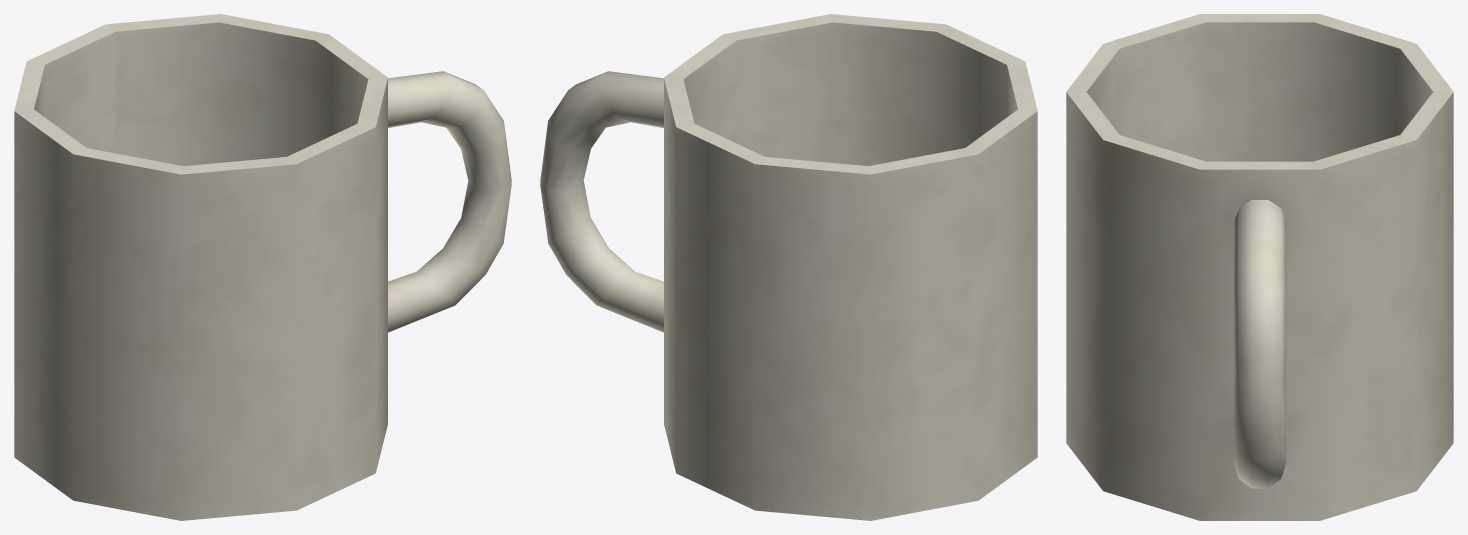
Rendered from sb_obj_indoor020_Mug01.fbx.
3 renders of one model, left to right at view 1: azimuth 30°, elevation 25°; view 2: azimuth 150°, elevation 25°; view 3: azimuth 270°, elevation 25°, orthographic.
Parts seen in each view (by area): view 1: sb_obj_indoor020_Mug01; view 2: sb_obj_indoor020_Mug01; view 3: sb_obj_indoor020_Mug01.
Boxes of the visible parts, x1,y1,x2,y2 form: sb_obj_indoor020_Mug01: [14, 14, 511, 520]; sb_obj_indoor020_Mug01: [540, 14, 1037, 520]; sb_obj_indoor020_Mug01: [1066, 14, 1453, 520].
Bounding box in the file's own units: 0.1402 × 0.1 × 0.1.
